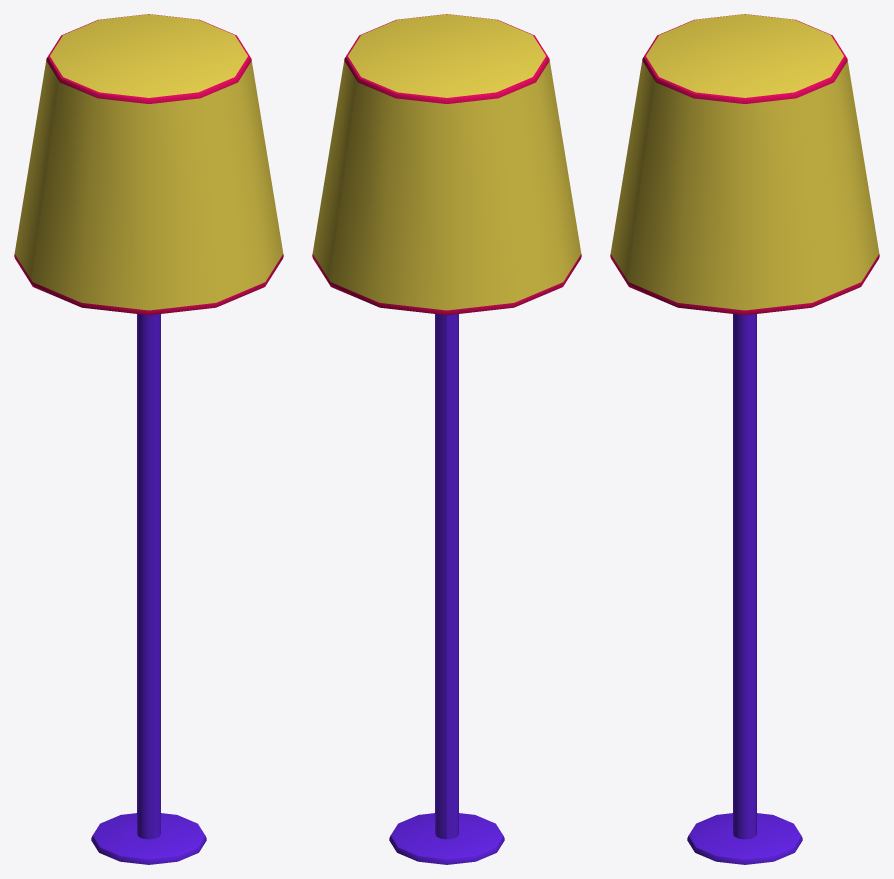
The model's file is lamp_high.fbx.
3 renders of one model, left to right at view 1: azimuth 30°, elevation 25°; view 2: azimuth 150°, elevation 25°; view 3: azimuth 270°, elevation 25°, orthographic.
Visible parts, largest first — view 1: lamp_high; view 2: lamp_high; view 3: lamp_high.
Part boxes in pixels (x1,y1,x2,y2): lamp_high: (14,14,283,864); lamp_high: (312,14,581,864); lamp_high: (610,14,879,864).
Size of the model in its own units: 93.33 by 300 by 93.33.
